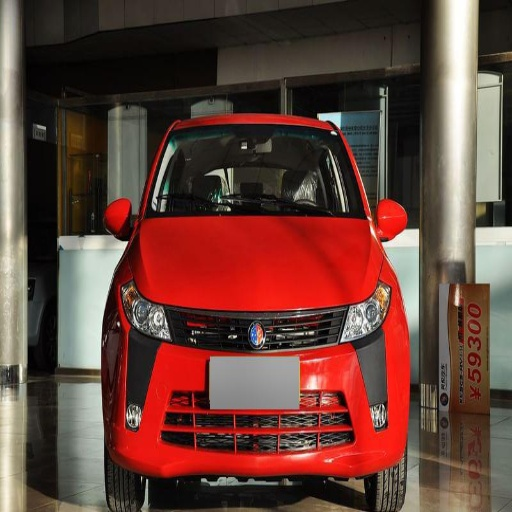front_bumper: (110, 305, 405, 476)
front_right_light: (123, 286, 172, 341)
hood: (132, 218, 382, 310)
left_mirror: (376, 199, 408, 242)
